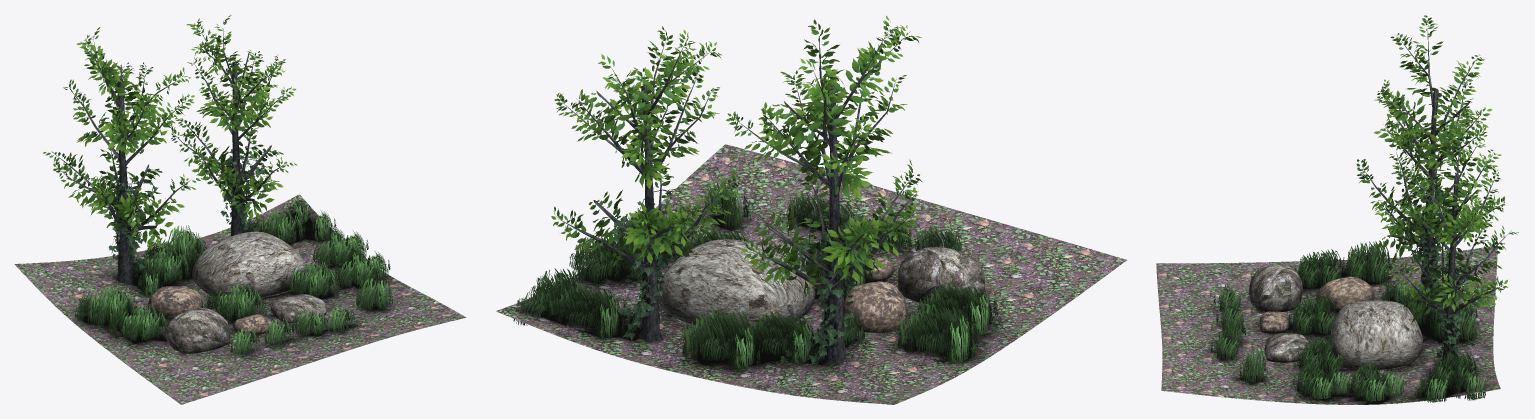
Rendered from sample7.glb.
3 renders of one model, left to right at view 1: azimuth 30°, elevation 25°; view 2: azimuth 150°, elevation 25°; view 3: azimuth 270°, elevation 25°, orthographic. The views are drawn at different scales.
Visible parts, largest first — view 1: ground, keyaki_20140715 (×2), grasses, rock_001, rock_002, rock_005, rock_004, rock_003; view 2: ground, keyaki_20140715 (×2), grasses, rock_001, rock_002, rock_005; view 3: ground, keyaki_20140715 (×2), grasses, rock_001, rock_002, rock_005, rock_004, rock_003.
Boxes of the visible parts, x1,y1,x2,y2 form: ground: (14, 194, 466, 404); keyaki_20140715 (×2): (43, 15, 297, 283); grasses: (74, 198, 392, 354); rock_001: (192, 231, 307, 299); rock_002: (165, 308, 230, 353); rock_005: (148, 286, 202, 320); rock_004: (271, 294, 326, 322); rock_003: (233, 314, 272, 335); ground: (496, 144, 1126, 404); keyaki_20140715 (×2): (551, 15, 921, 366); grasses: (513, 180, 998, 369); rock_001: (658, 239, 815, 331); rock_002: (897, 247, 985, 307); rock_005: (843, 281, 907, 332); ground: (1156, 245, 1500, 404); keyaki_20140715 (×2): (1356, 15, 1518, 371); grasses: (1211, 240, 1485, 402); rock_001: (1330, 300, 1422, 370); rock_002: (1249, 265, 1302, 311); rock_005: (1316, 276, 1374, 313); rock_004: (1264, 333, 1309, 362); rock_003: (1259, 311, 1289, 332).
Size of the model in its own units: 5.29 by 4.61 by 5.58.
Materials: 7 (7 with a texture image).
